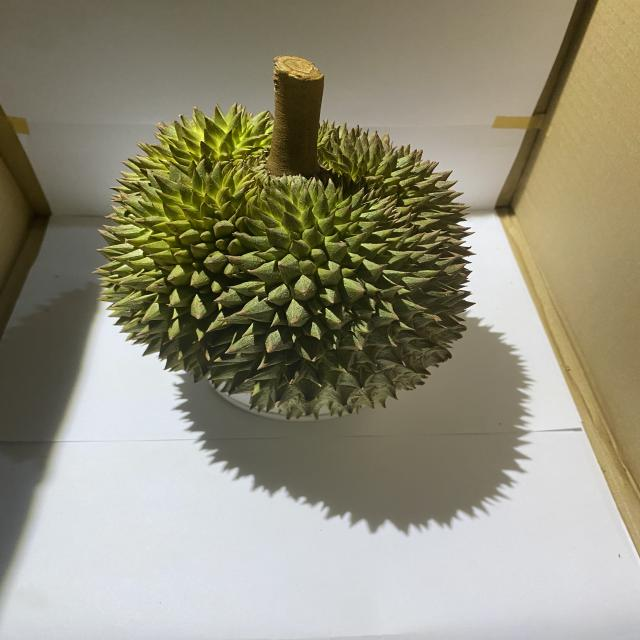immature: (85, 101, 481, 416)
